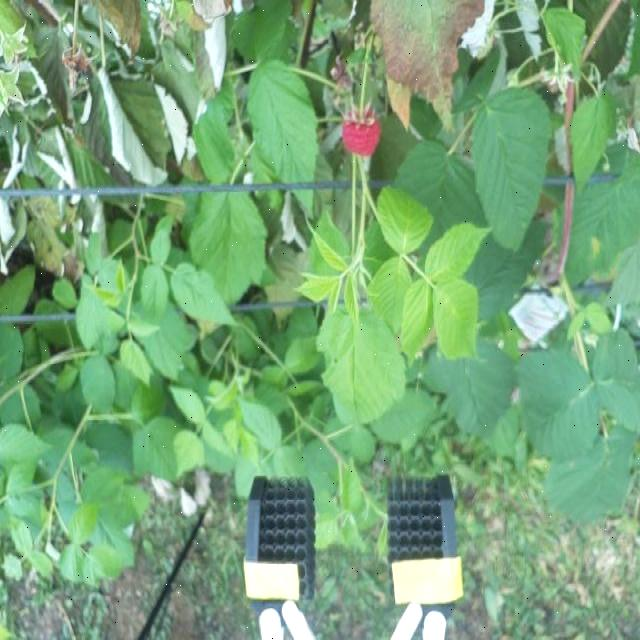Riped berries: (338, 102, 382, 158)
